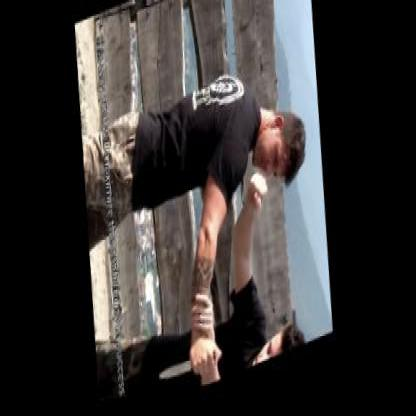knife: (158, 342, 225, 396)
